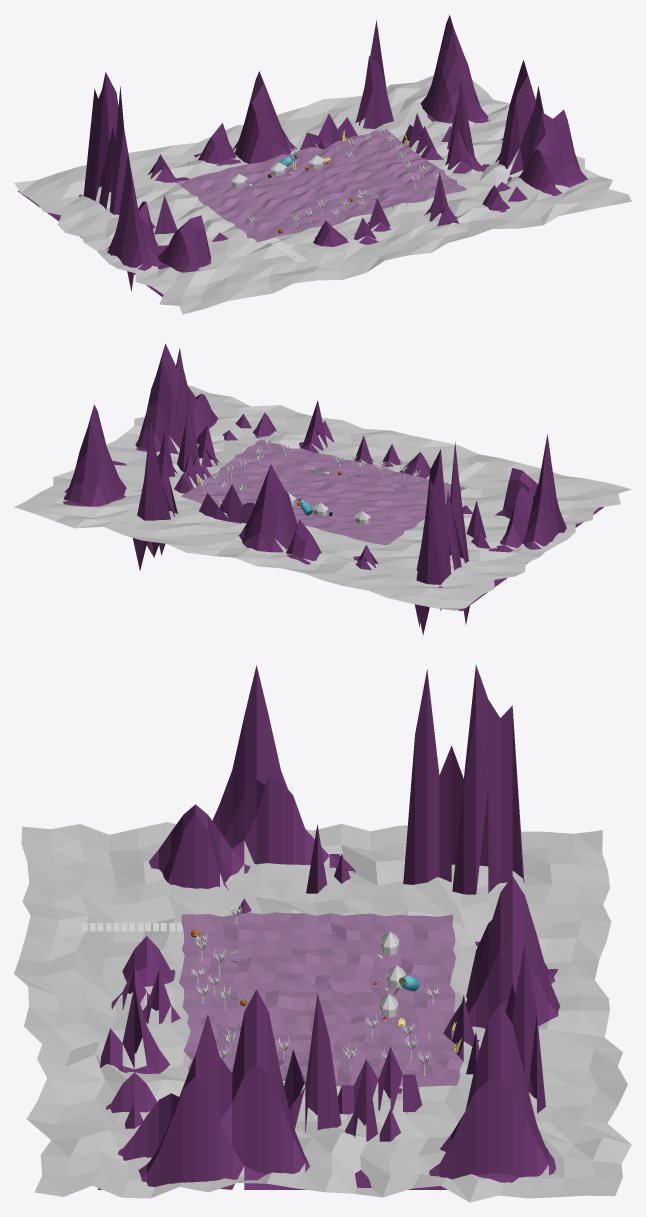
Rendered from Scenery2.FBX.
The picture shows the model from 3 angles, top to bottom: view 1: azimuth 30°, elevation 25°; view 2: azimuth 150°, elevation 25°; view 3: azimuth 270°, elevation 25°; orthographic projection. The views are drawn at different scales.
Parts seen in each view (by area): view 1: Plane024, Plane025, Plane004; view 2: Plane024, Plane025, Plane004; view 3: Plane024, Plane025, Plane004.
Boxes of the visible parts, box(x1,y1,x2,y2) form: Plane024: box(14, 75, 631, 314); Plane025: box(18, 15, 587, 296); Plane004: box(177, 129, 466, 242); Plane024: box(14, 385, 631, 610); Plane025: box(63, 343, 603, 635); Plane004: box(180, 439, 466, 544); Plane024: box(14, 822, 631, 1202); Plane025: box(98, 665, 560, 1189); Plane004: box(179, 912, 462, 1086).
Bounding box in the file's own units: 7662 × 3143 × 5287.
